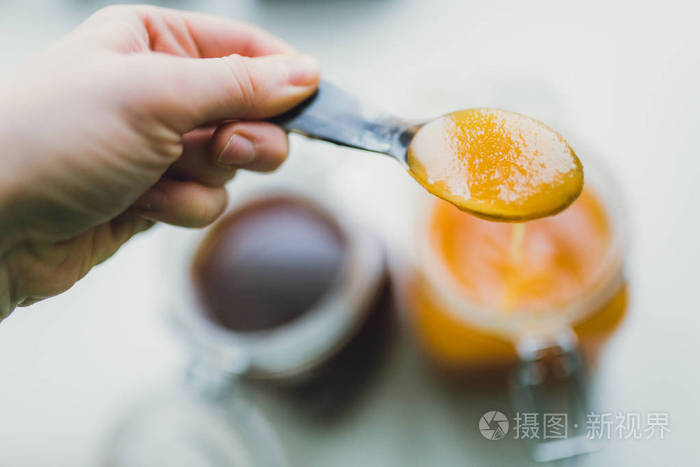no-phone: (2, 1, 592, 308)
